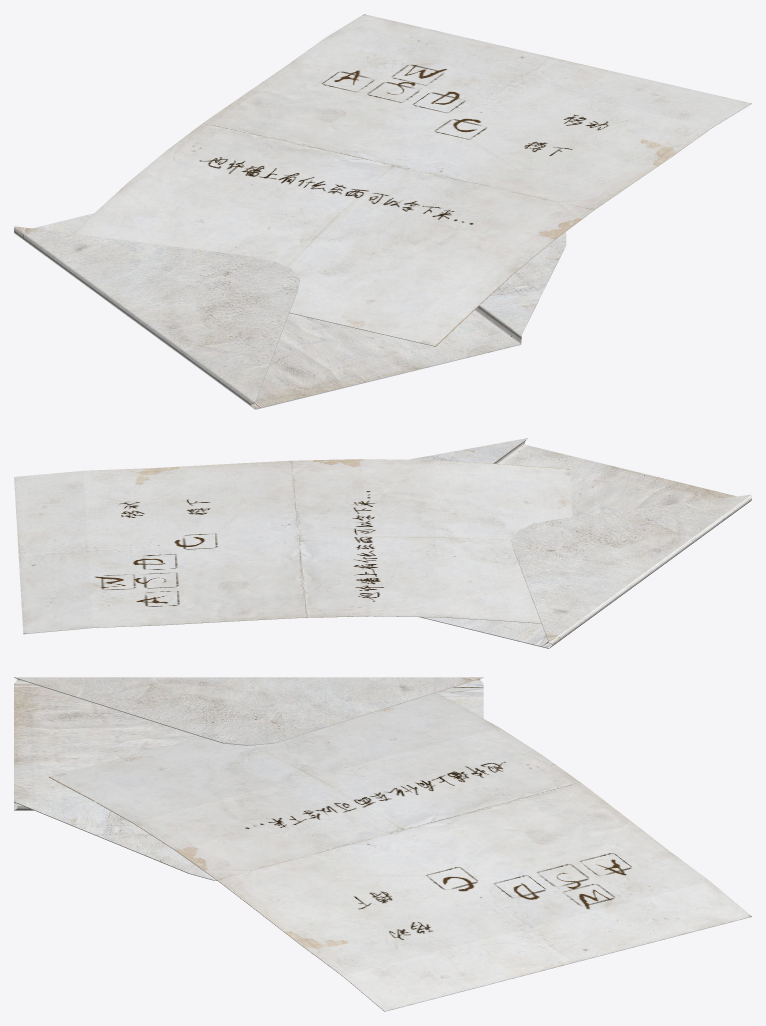
File: Lvl1_letter.fbx
The picture shows the model from 3 angles, top to bottom: view 1: azimuth 30°, elevation 25°; view 2: azimuth 150°, elevation 25°; view 3: azimuth 270°, elevation 25°; orthographic projection. The views are drawn at different scales.
Parts seen in each view (by area): view 1: Instructions, Envelope; view 2: Instructions, Envelope; view 3: Instructions, Envelope.
Part boxes in pixels (x1,y1,x2,y2): Instructions: (73,14,751,346); Envelope: (14,213,566,409); Instructions: (14,459,572,634); Envelope: (409,438,751,648); Instructions: (49,693,751,1011); Envelope: (14,677,483,880).
Bounding box in the file's own units: 3.3 × 0.0794 × 3.14.
2 materials, 2 textured.
